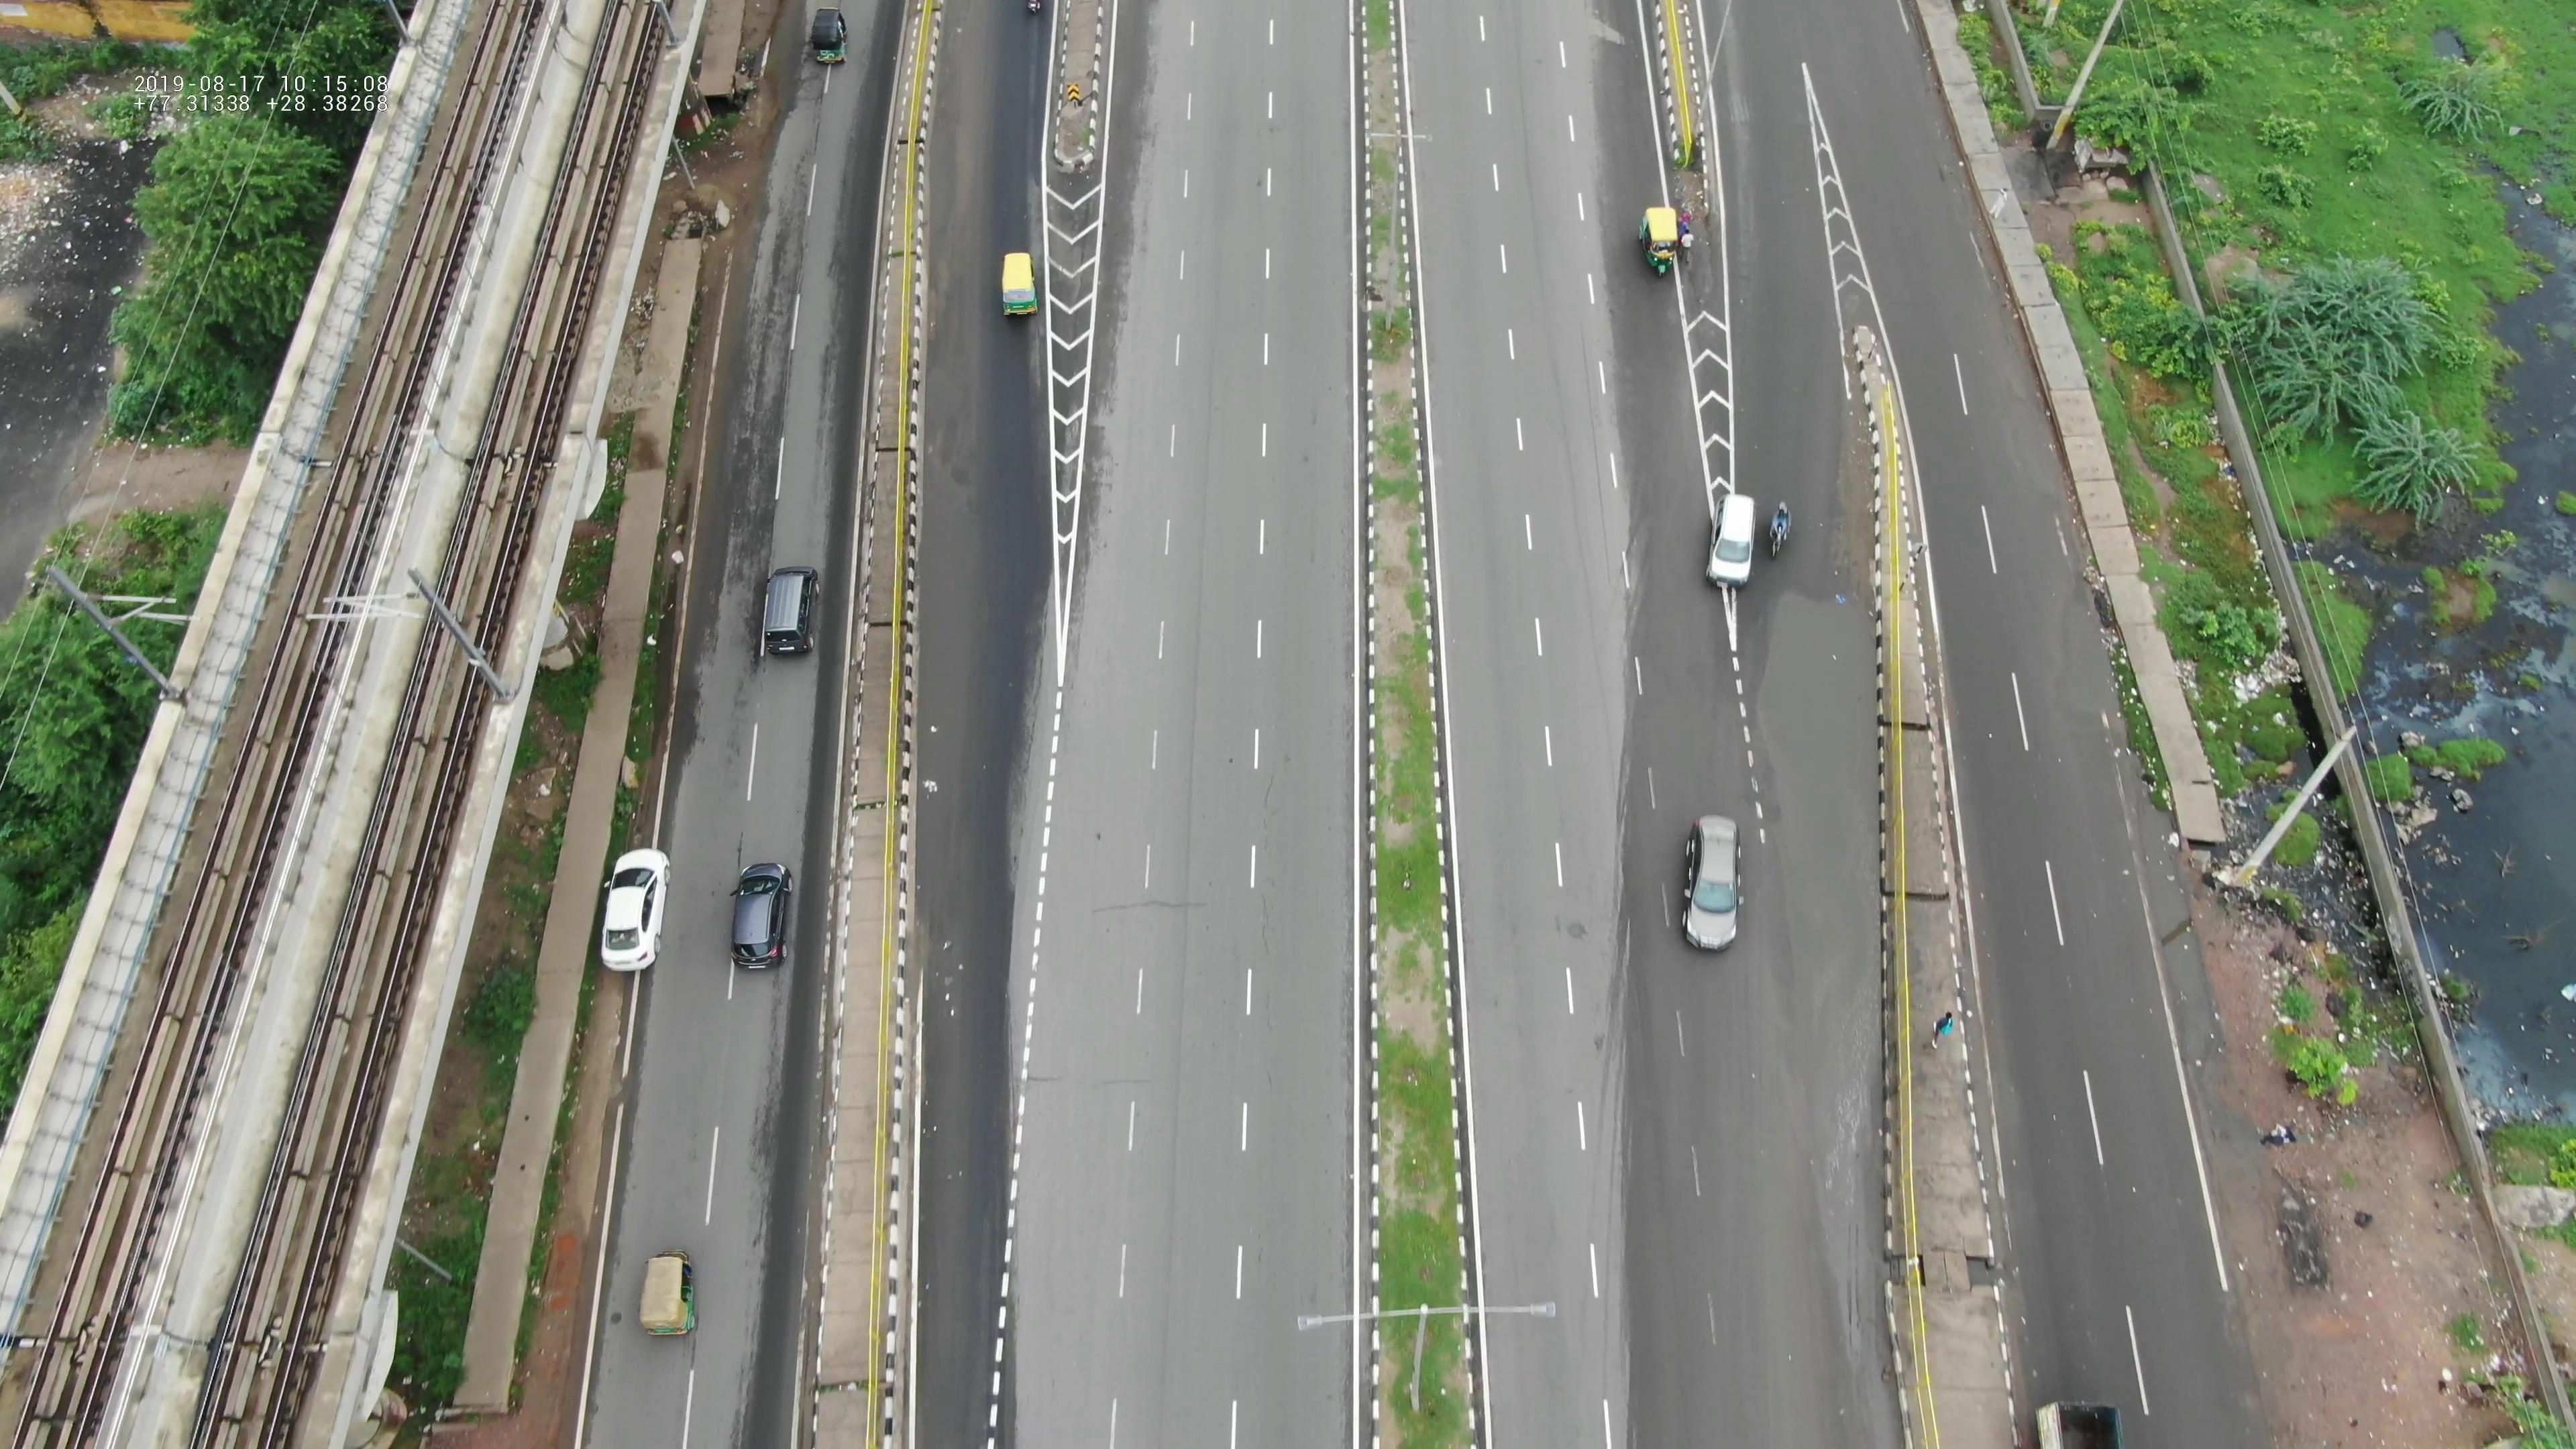Hair_cracks: (1074, 878, 1258, 975), (1003, 1042, 1198, 1125)
Waterlogging: (1744, 605, 1886, 849)
